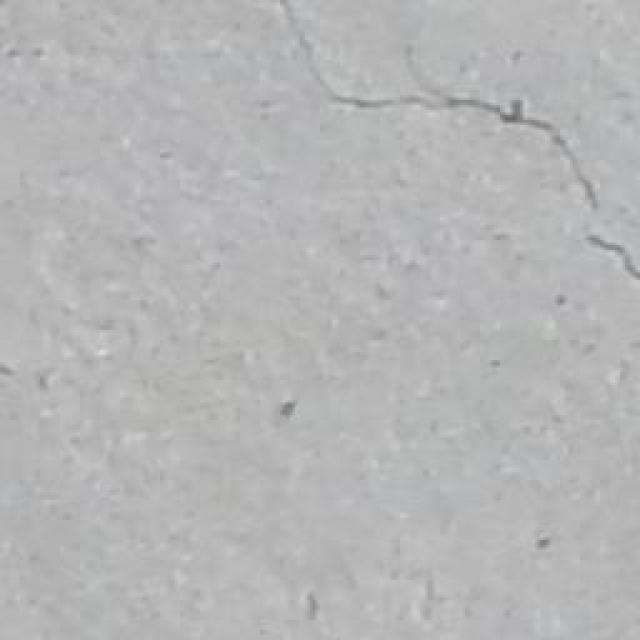concrete-crack: (273, 0, 640, 289)
